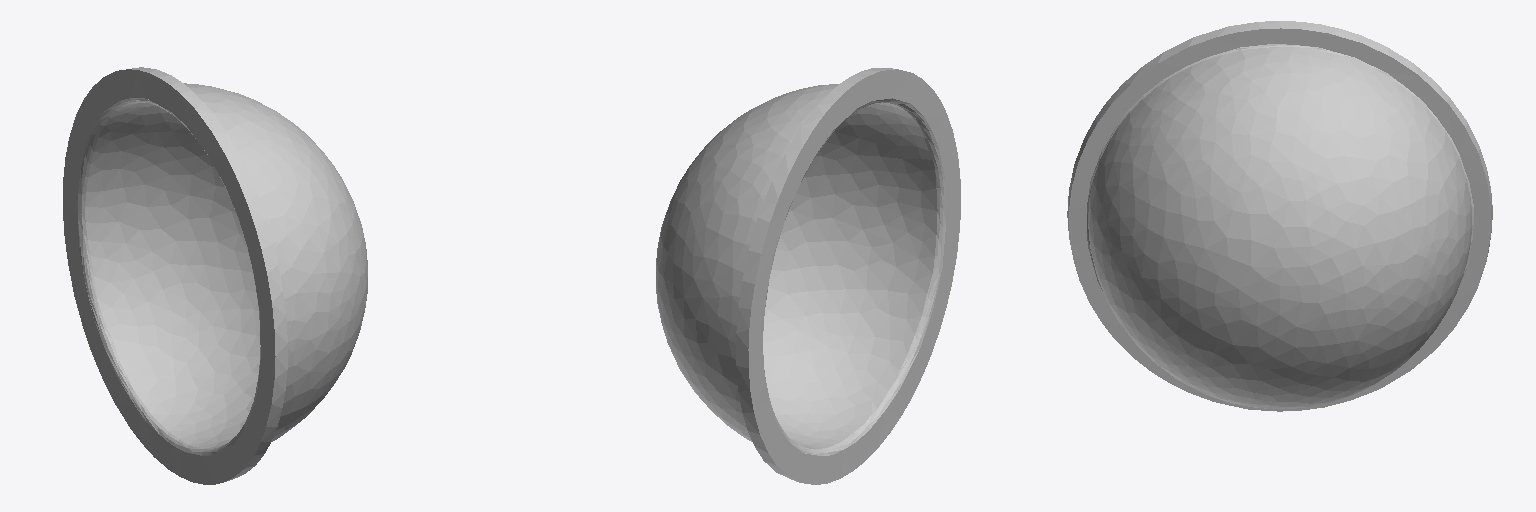
File: camera_dome.obj
3 renders of one model, left to right at view 1: azimuth 30°, elevation 25°; view 2: azimuth 150°, elevation 25°; view 3: azimuth 270°, elevation 25°, orthographic.
Parts seen in each view (by area): view 1: Camera_done_vis; view 2: Camera_done_vis; view 3: Camera_done_vis.
Part boxes in pixels (bbox=[...]): Camera_done_vis: bbox=[63, 67, 367, 484]; Camera_done_vis: bbox=[656, 68, 960, 484]; Camera_done_vis: bbox=[1067, 21, 1492, 411].
Size of the model in its own units: 0.0494 by 0.1047 by 0.1047.